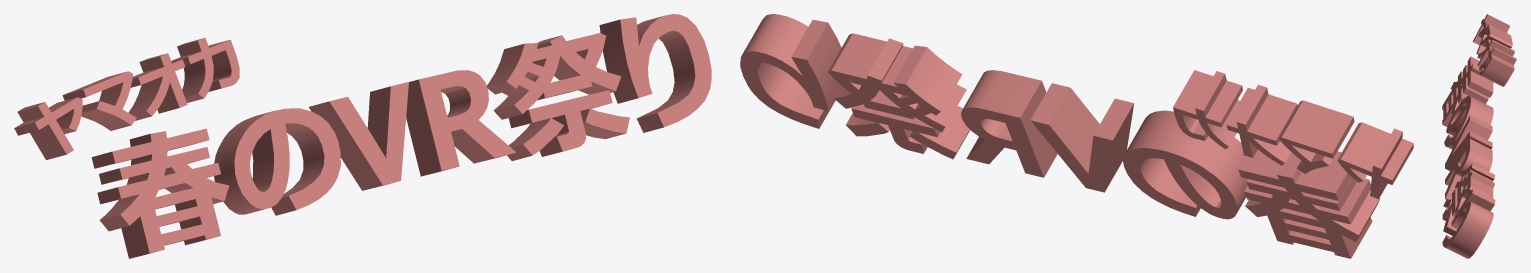
Rendered from sprVRfes_font.gltf.
3 renders of one model, left to right at view 1: azimuth 30°, elevation 25°; view 2: azimuth 150°, elevation 25°; view 3: azimuth 270°, elevation 25°, orthographic. The views are drawn at different scales.
Parts seen in each view (by area): view 1: 01ya; view 2: 01ya; view 3: 01ya.
Boxes of the visible parts, box(x1,y1,x2,y2) form: 01ya: box(14, 14, 711, 258); 01ya: box(740, 14, 1413, 258); 01ya: box(1442, 14, 1516, 258).
Bounding box in the file's own units: 7.91 × 2.05 × 1.44.
